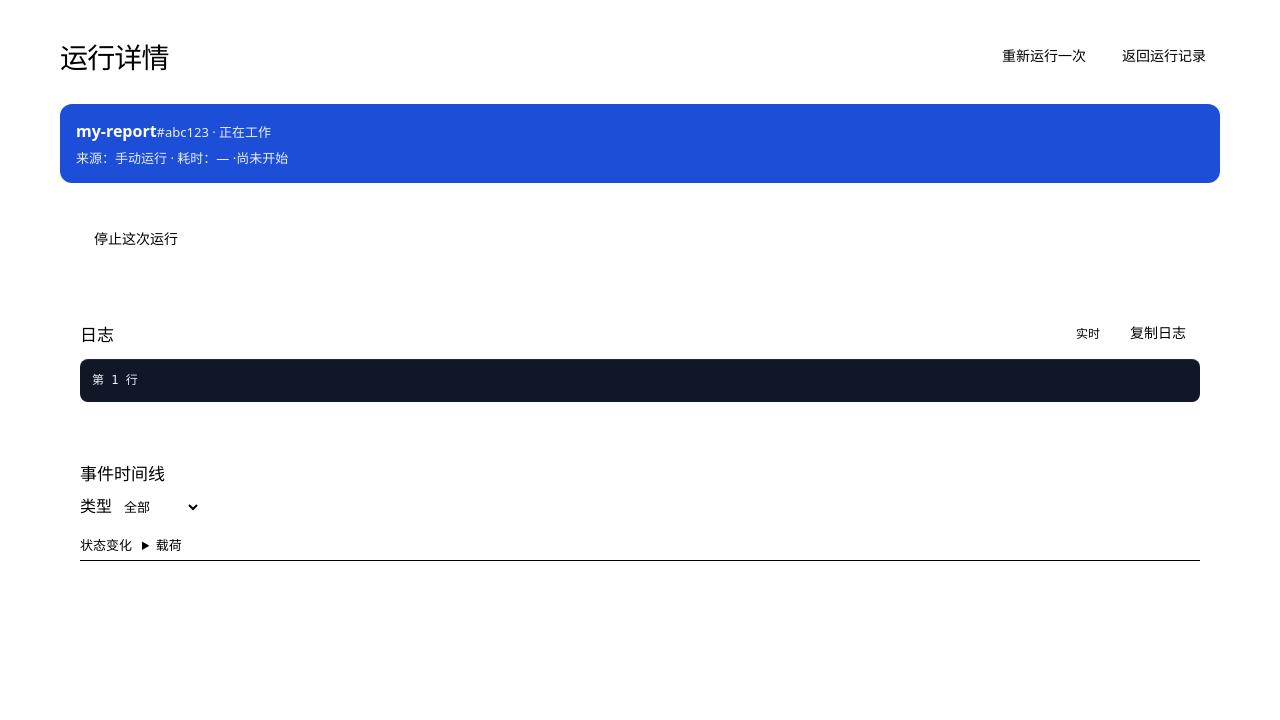
RunDetailScreen › 有 payloadJson 的事件可展开载荷
Click the heading "载荷".
click(169, 545)  # box [156,536,182,554]
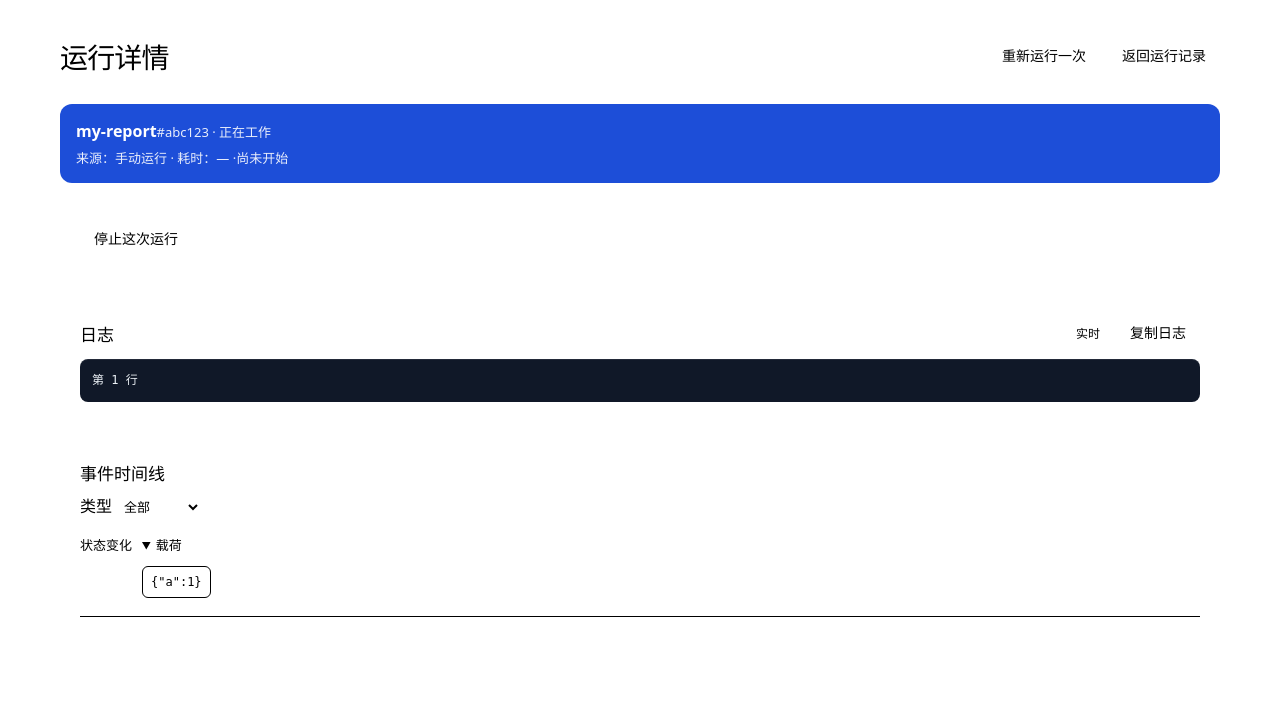
Now the text "{\"a\":1}" is shown, box [142,566,211,598]
